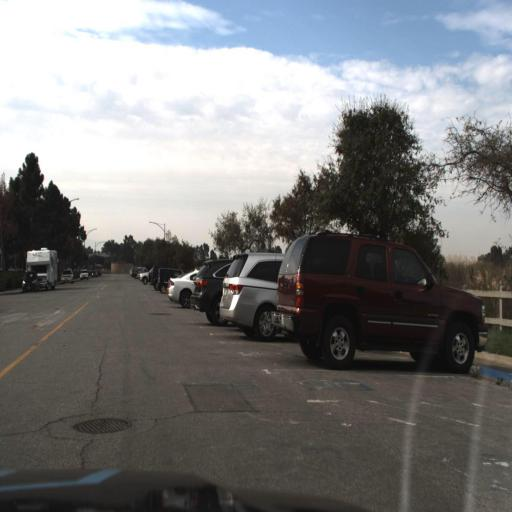car: (281, 222, 490, 386), (221, 247, 292, 341), (189, 253, 232, 327), (170, 268, 194, 311), (16, 268, 40, 297), (154, 264, 170, 297), (60, 266, 74, 287)
truck: (26, 248, 58, 291)
